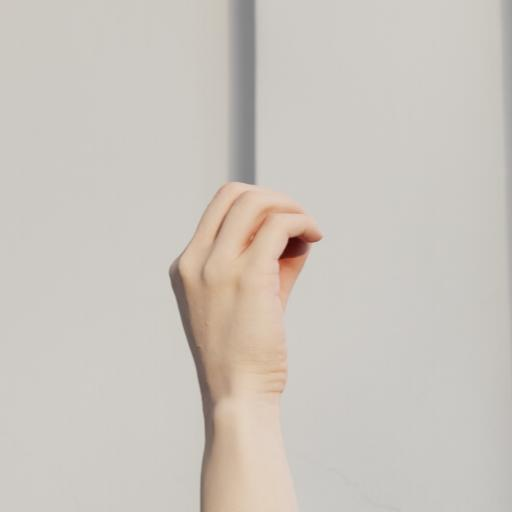O: (145, 164, 331, 512)
